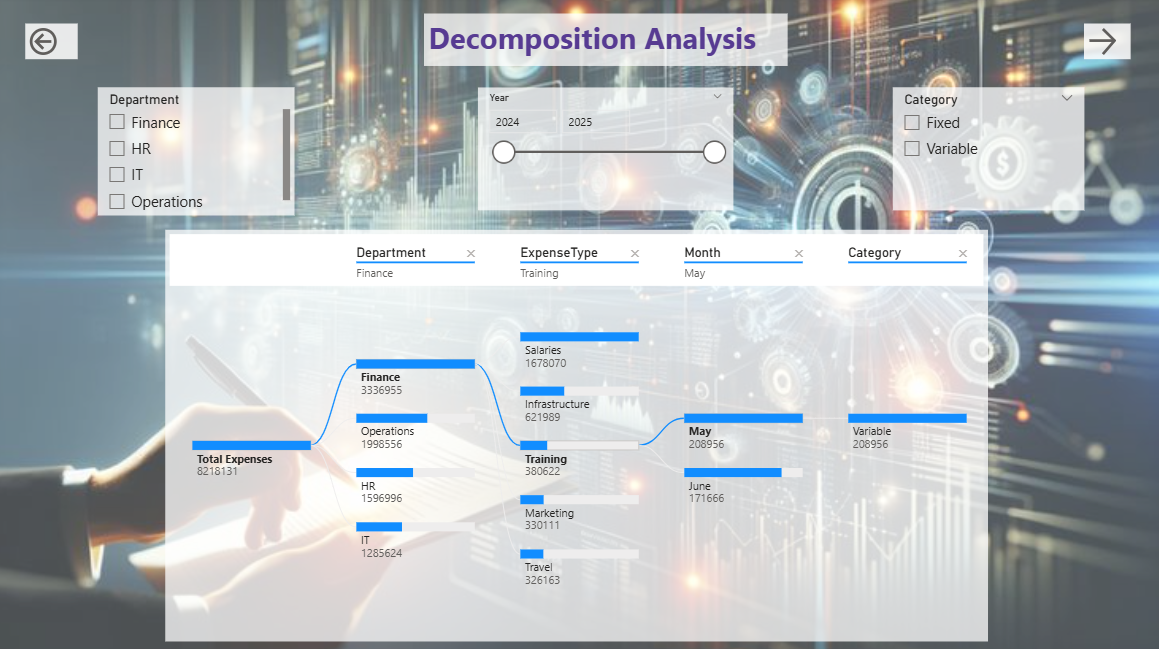

This screenshot's page, from the dashboard's own definition file:
{"tool":"powerbi","page":{"name":"Decomposition Analysis","canvas":[1280,720],"ordinal":4},"visuals":[{"type":"decompositionTreeVisual","fields":{"Analyze":["Financial_Expense_Optimization_50Rows.Total Expenses"],"ExplainBy":["Financial_Expense_Optimization_50Rows.Department","Financial_Expense_Optimization_50Rows.ExpenseType","Financial_Expense_Optimization_50Rows.Month","Financial_Expense_Optimization_50Rows.Category"]},"box":[187.7,256.9,903.4,451.7],"z":0},{"type":"slicer","fields":{"Values":["Financial_Expense_Optimization_50Rows.Year"]},"box":[530.7,100.2,280.9,135.5],"z":1},{"type":"slicer","fields":{"Values":["Financial_Expense_Optimization_50Rows.Department"]},"box":[114.3,100.2,216,141.2],"z":2},{"type":"slicer","fields":{"Values":["Financial_Expense_Optimization_50Rows.Category"]},"box":[986.7,100.2,210.3,135.5],"z":3},{"type":"actionButton","box":[33.9,29.6,57.9,39.5],"z":4},{"type":"actionButton","box":[1197,29.6,50.8,39.5],"z":5},{"type":"textbox","box":[471.5,19.8,399.5,57.9],"z":6}]}

Visuals, with their boxes in screenshot pixels (x1, y1, x2, y2), scaled from the page's 1280x720 canvas onto the 1159x649 screenshot:
decompositionTreeVisual - Financial_Expense_Optimization_50Rows.Total Expenses x Financial_Expense_Optimization_50Rows.Department: crop(170, 232, 988, 639)
slicer - Financial_Expense_Optimization_50Rows.Year: crop(481, 90, 735, 212)
slicer - Financial_Expense_Optimization_50Rows.Department: crop(103, 90, 299, 218)
slicer - Financial_Expense_Optimization_50Rows.Category: crop(893, 90, 1084, 212)
actionButton: crop(31, 27, 83, 62)
actionButton: crop(1084, 27, 1130, 62)
textbox: crop(427, 18, 789, 70)
